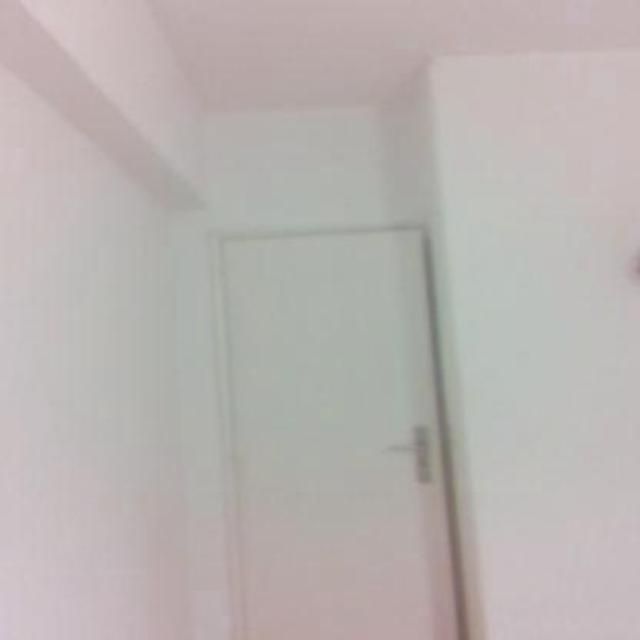door: (210, 224, 472, 638)
